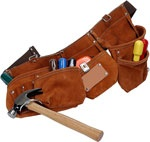hammer: (8, 87, 105, 142)
